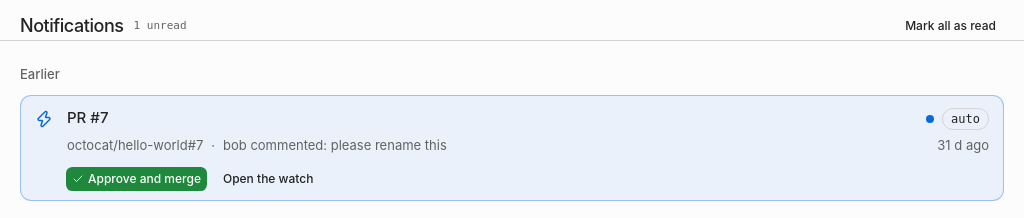
Test: Approve and merge shows why the daemon refused it
Click the button "Approve and merge" at [136, 179], box [66, 167, 207, 191]
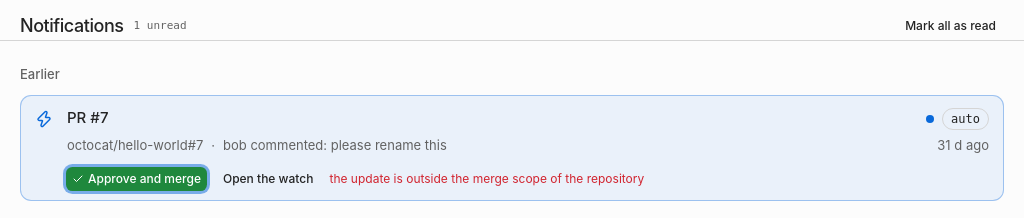
Expected: the text "the update is outside the merge scope of the repository" is shown, [330, 171, 644, 187]
